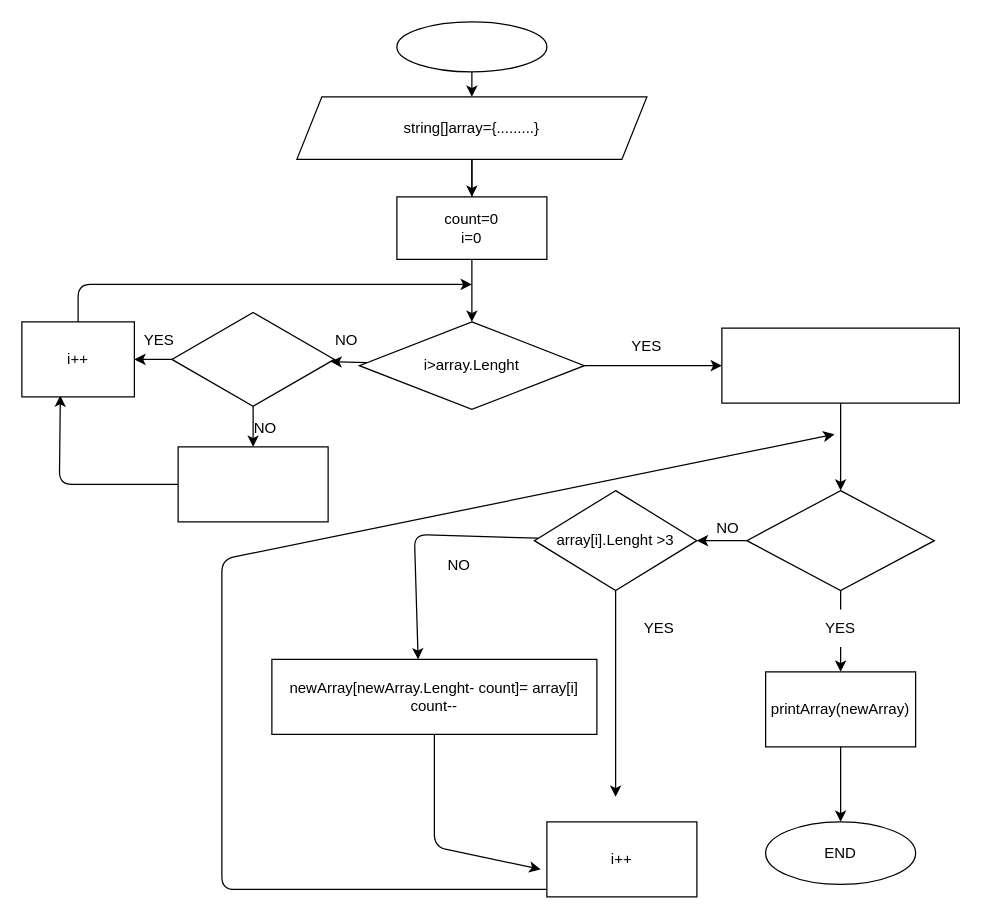
Image size: 981x921. Some labels were removed from this diagram. Here are the shapes that lost their labels. From the top down, the centre of each, then its label:
At (471,46): "START".
At (252,358): "array[i].Lenght>3".
At (840,365): "string[]newArray= new string[count] i=0".
At (252,484): "count++".
At (840,540): "i > array.Lenght".
